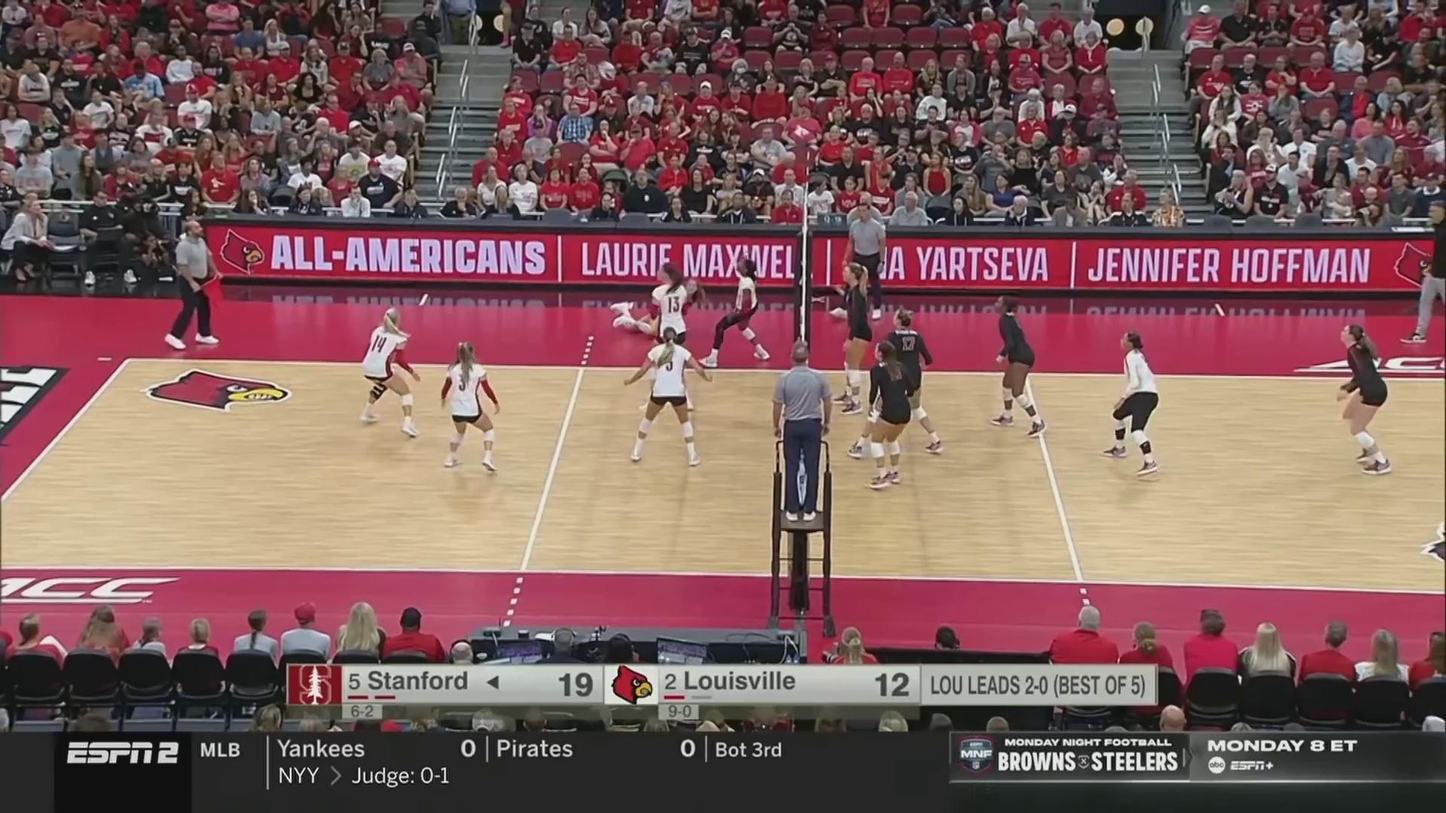player: (847, 304, 948, 458), (623, 331, 713, 466), (438, 340, 507, 473), (1335, 328, 1397, 476), (700, 250, 777, 369), (1098, 334, 1163, 472), (991, 294, 1049, 435), (646, 262, 698, 416), (359, 308, 421, 436), (861, 343, 912, 490), (610, 274, 702, 343), (835, 263, 871, 413)
refree: (772, 356, 838, 522), (166, 220, 219, 349), (830, 202, 886, 319)
